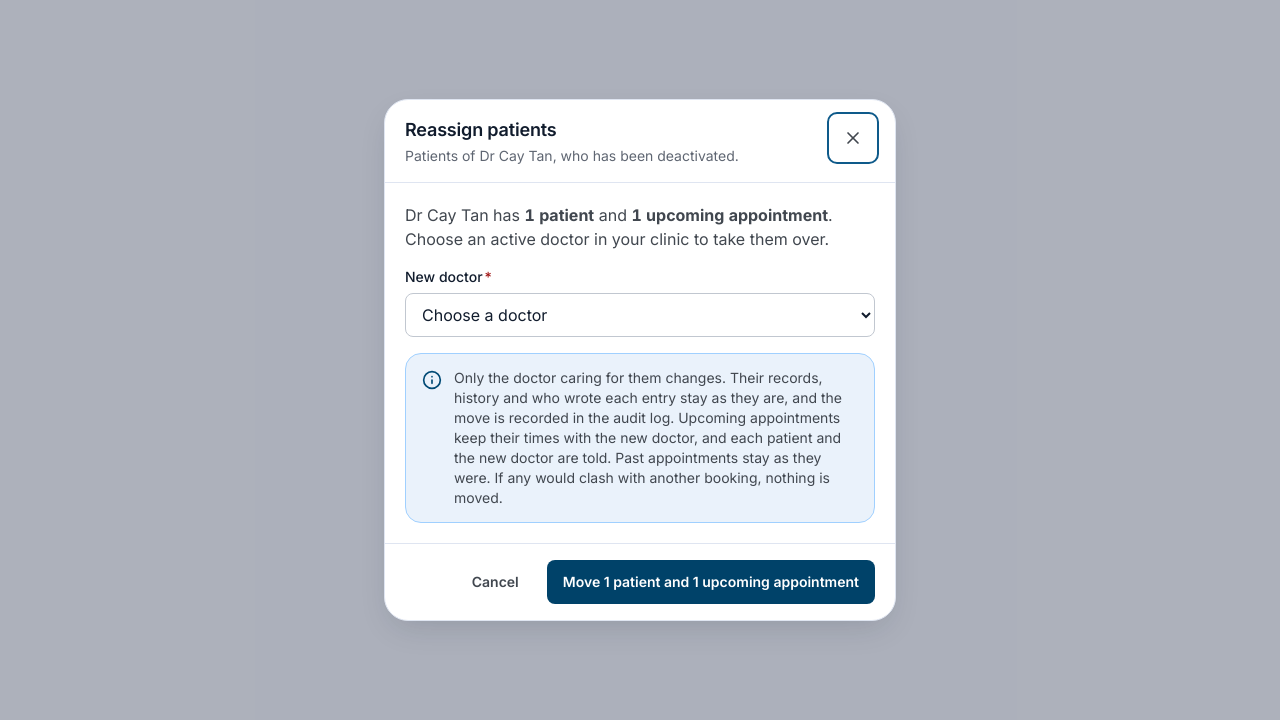
Test: reassigning a deactivated doctor’s patients › with upcoming appointments (migration 31) › confirms both counts, and says the patients and the new doctor were told
Expected: the button "Move 1 patient and 1 upcoming appointment" is shown, [547, 560, 875, 604]
Select "Dr Alan Cruz" in the dropdown labelled "New doctor*" at (640, 315), box [405, 293, 875, 337]
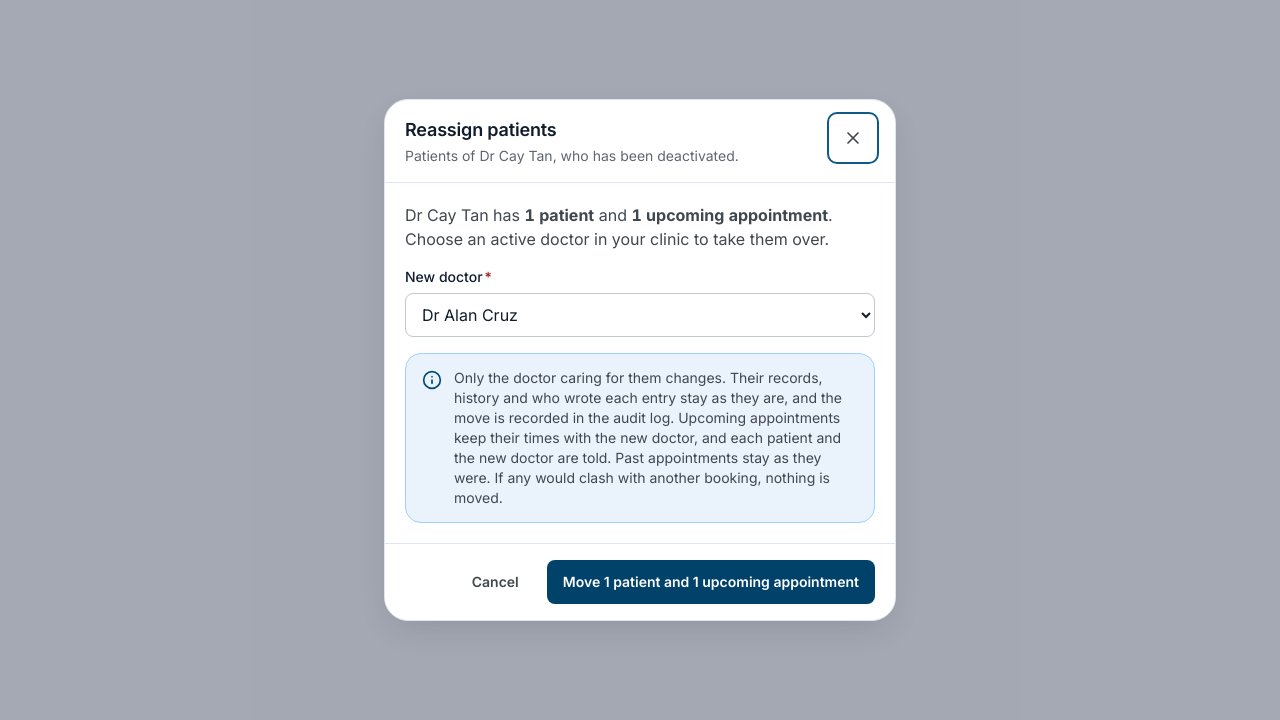
Click the button "Move 1 patient and 1 upcoming appointment" at (711, 582), box [547, 560, 875, 604]
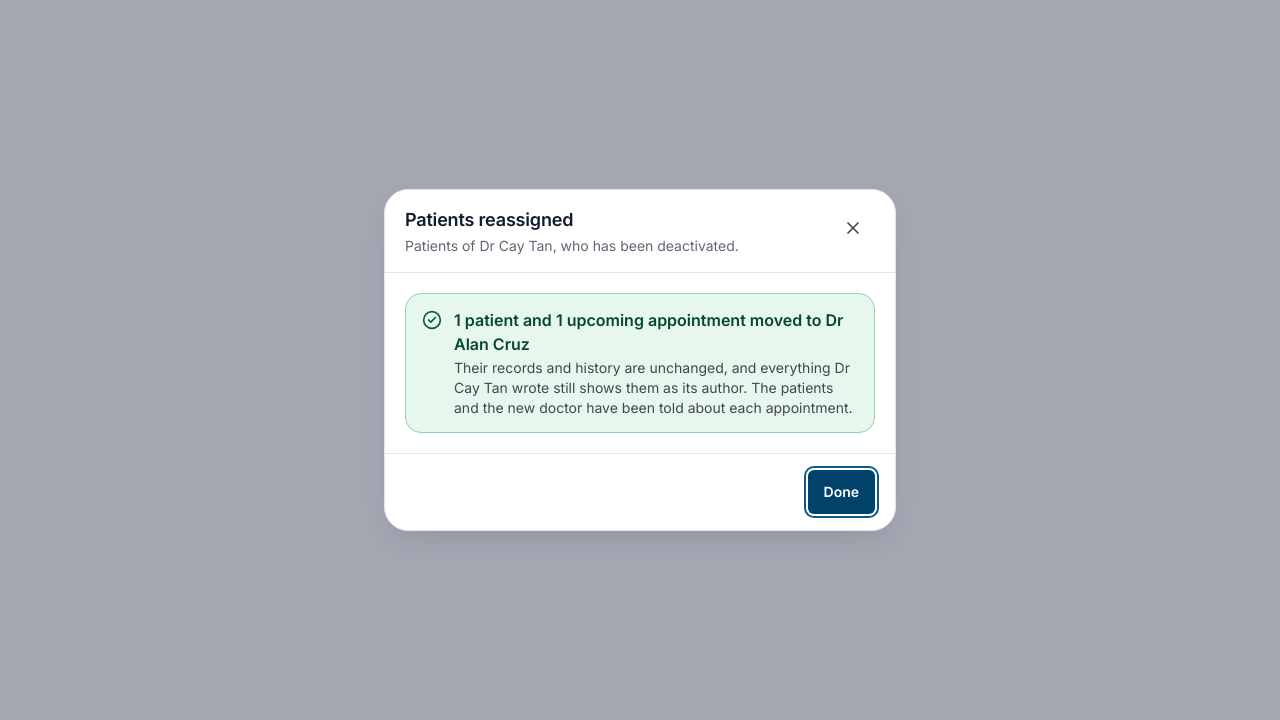
Now the text "1 patient and 1 upcoming appointment moved to Dr Alan Cruz" is shown, box [454, 308, 858, 356]
Now the text "The patients and the new doctor have been told about each appointment." is shown, box [454, 379, 853, 416]
